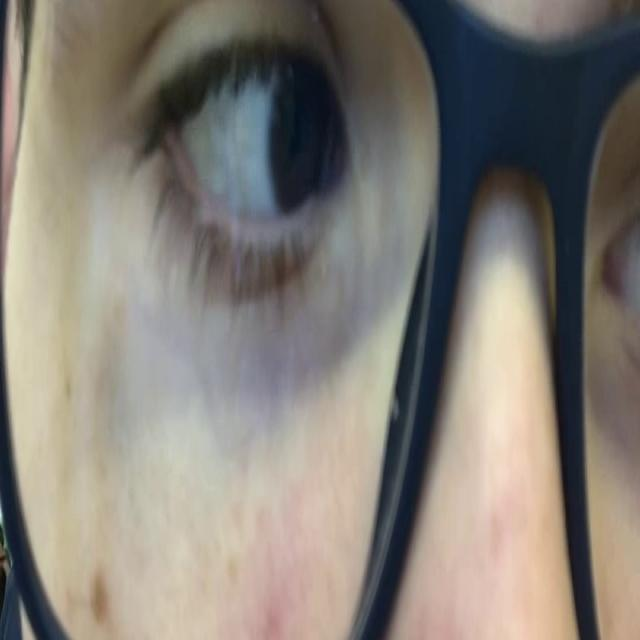eye: (120, 0, 372, 341)
gaze: (262, 52, 344, 225)
